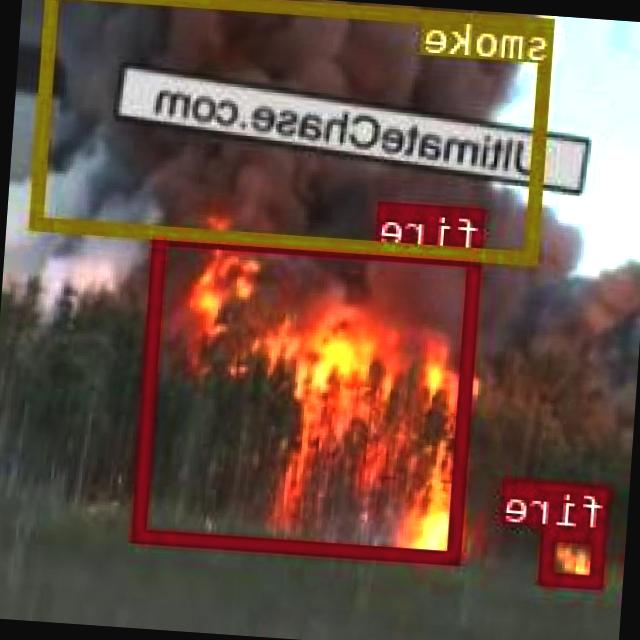fire: (135, 230, 484, 561), (542, 526, 606, 586)
smoke: (31, 0, 554, 263)
